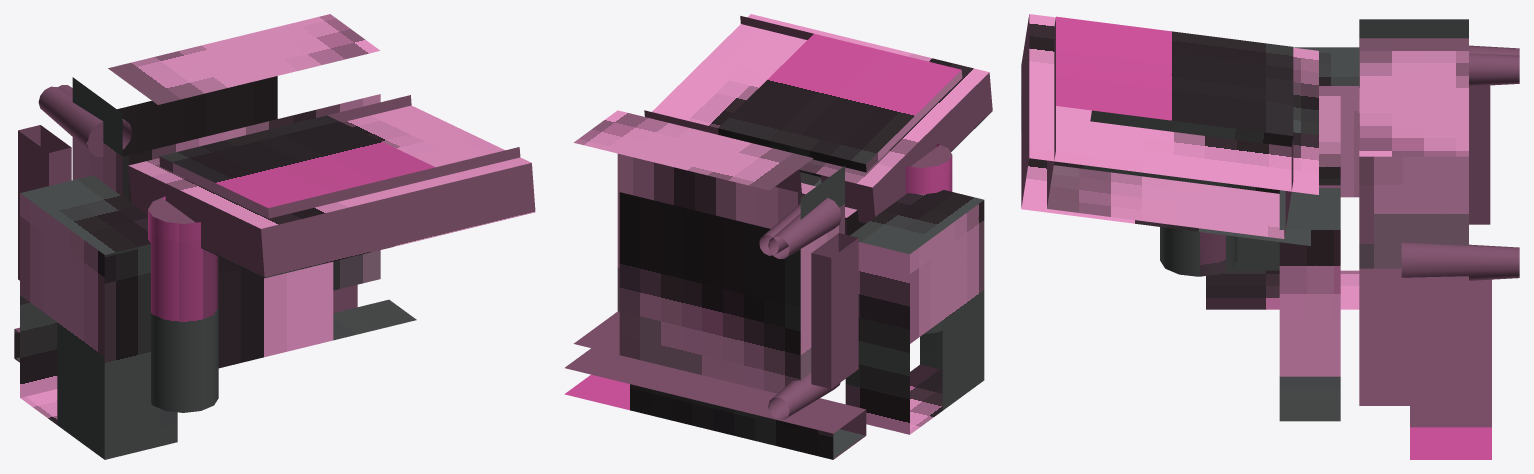
The model's file is section-4.obj.
The picture shows the model from 3 angles, left to right: view 1: azimuth 30°, elevation 25°; view 2: azimuth 150°, elevation 25°; view 3: azimuth 270°, elevation 25°; orthographic projection. The views are drawn at different scales.
Bounding box in the file's own units: 0.9123 × 0.7142 × 1.04.
